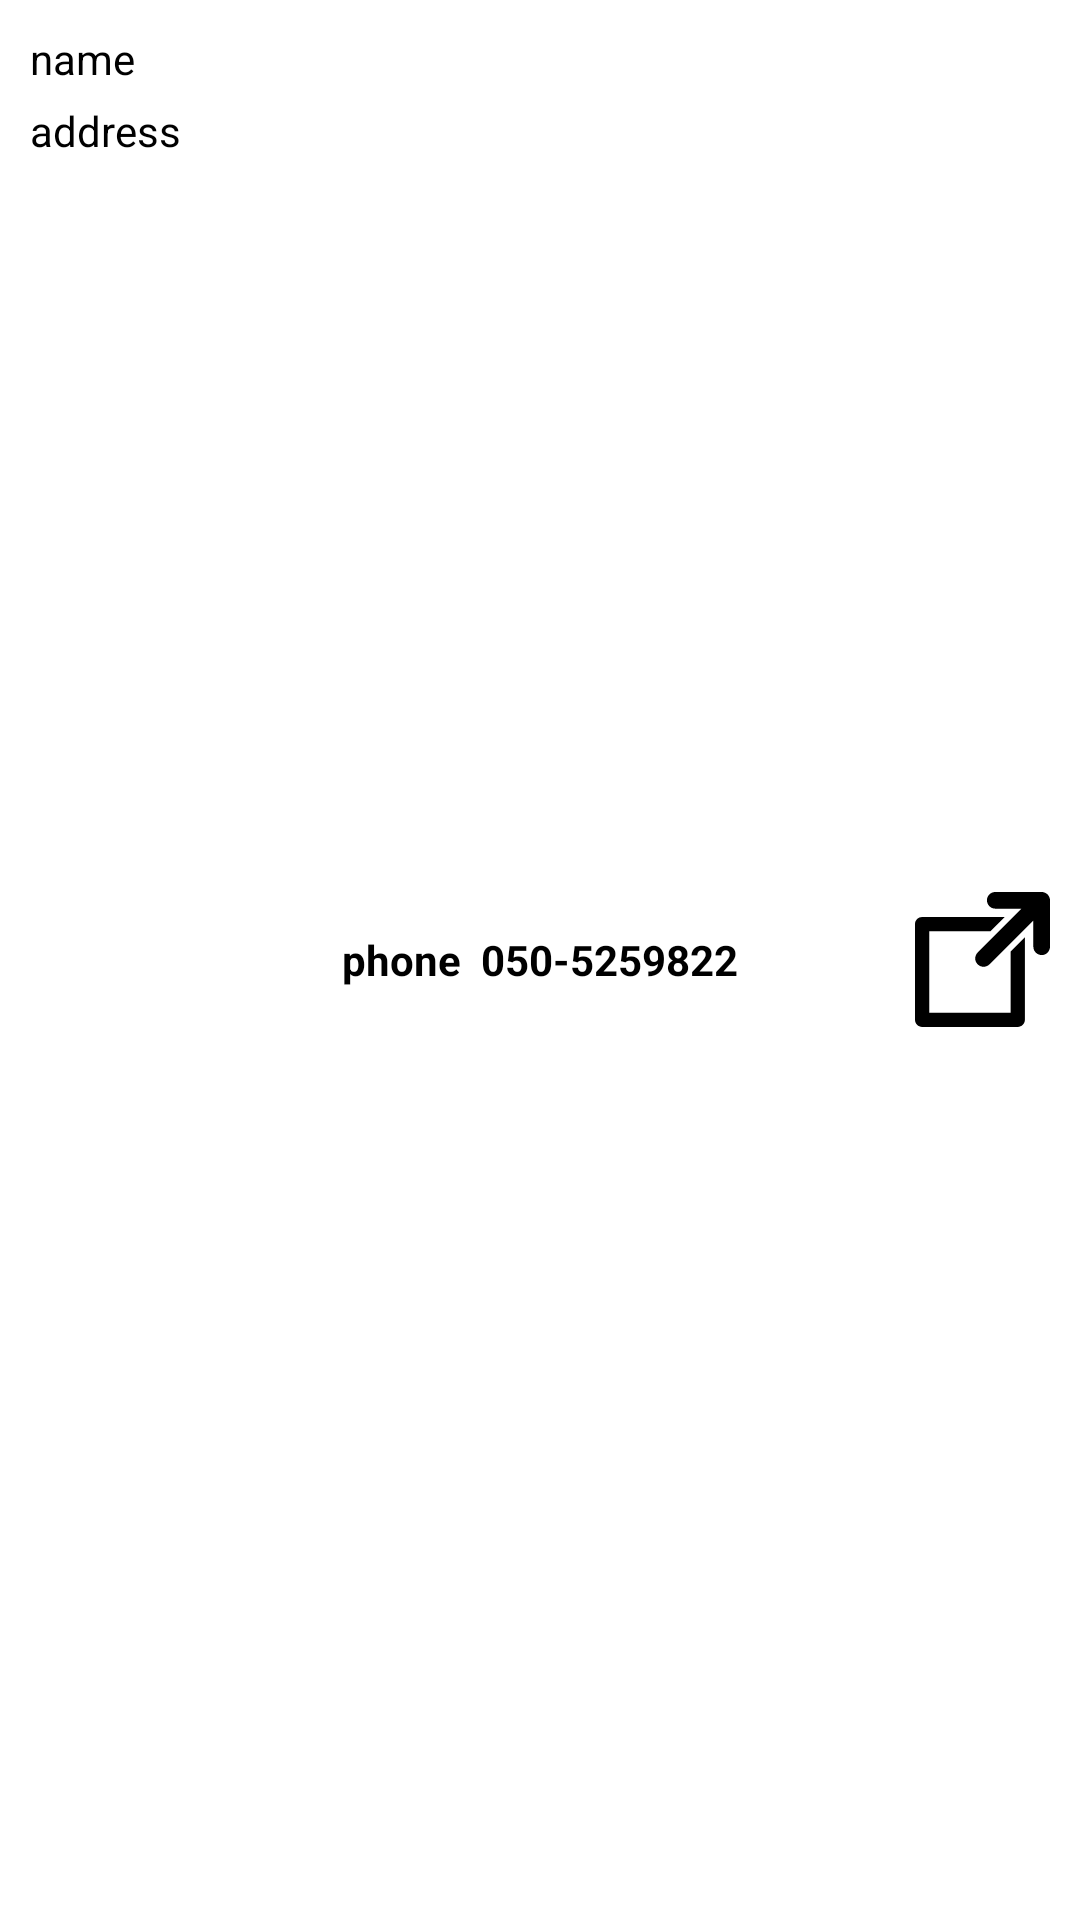

Icons on this 1080 x 1920 Android screen, each with the point to tap as (x,y):
link: (982,959)
